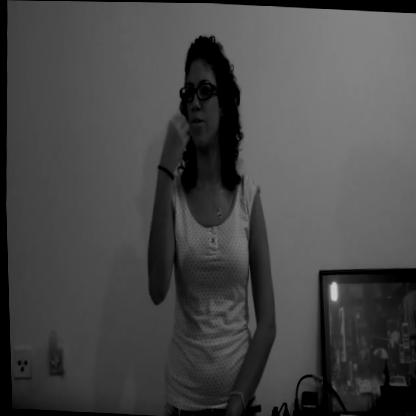Food: (136, 27, 288, 414)
